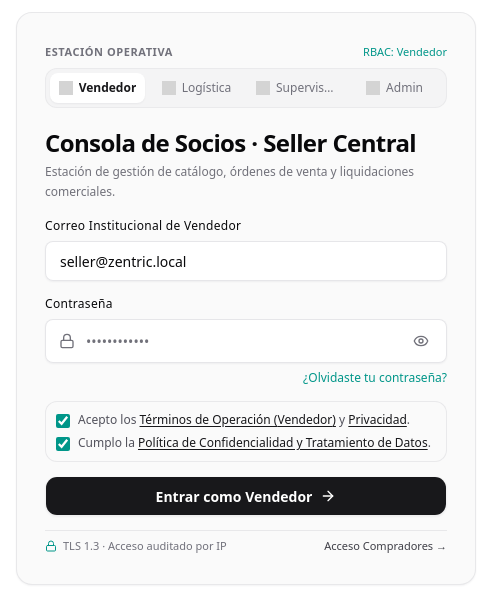
Test: Segmentación de Fronteras de Acceso y PasswordInput (Boundary Enforcement) › 3. Boundary Enforcement en CorporateLoginPage (Portal Operativo / B2B) › 3.4 mantiene etiquetas uniformes de Términos y botones al conmutar entre Vendedor y Logística
expect the link "Términos de Operación (Vendedor)" is shown: met, box [140,411,336,428]
expect the button "Entrar como Vendedor" is shown: met, box [45,476,447,516]
// Cambiar a pestaña de Logística
Click the tab "Logística".
click(196, 88)  # box [149,73,244,103]
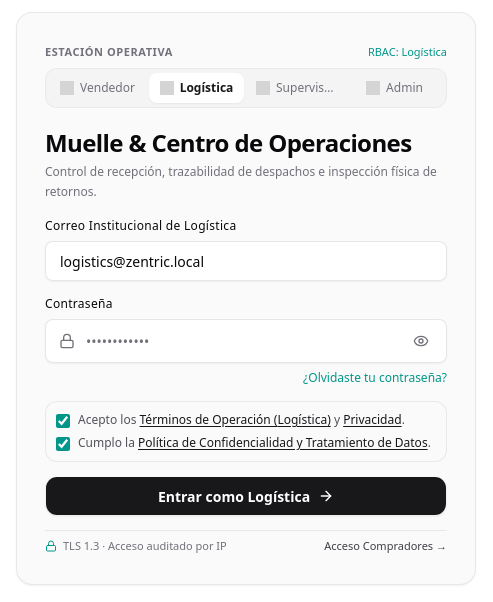
expect the link "Términos de Operación (Logística)" is shown: met, box [140,411,331,428]
expect the button "Entrar como Logística" is shown: met, box [45,476,447,516]
